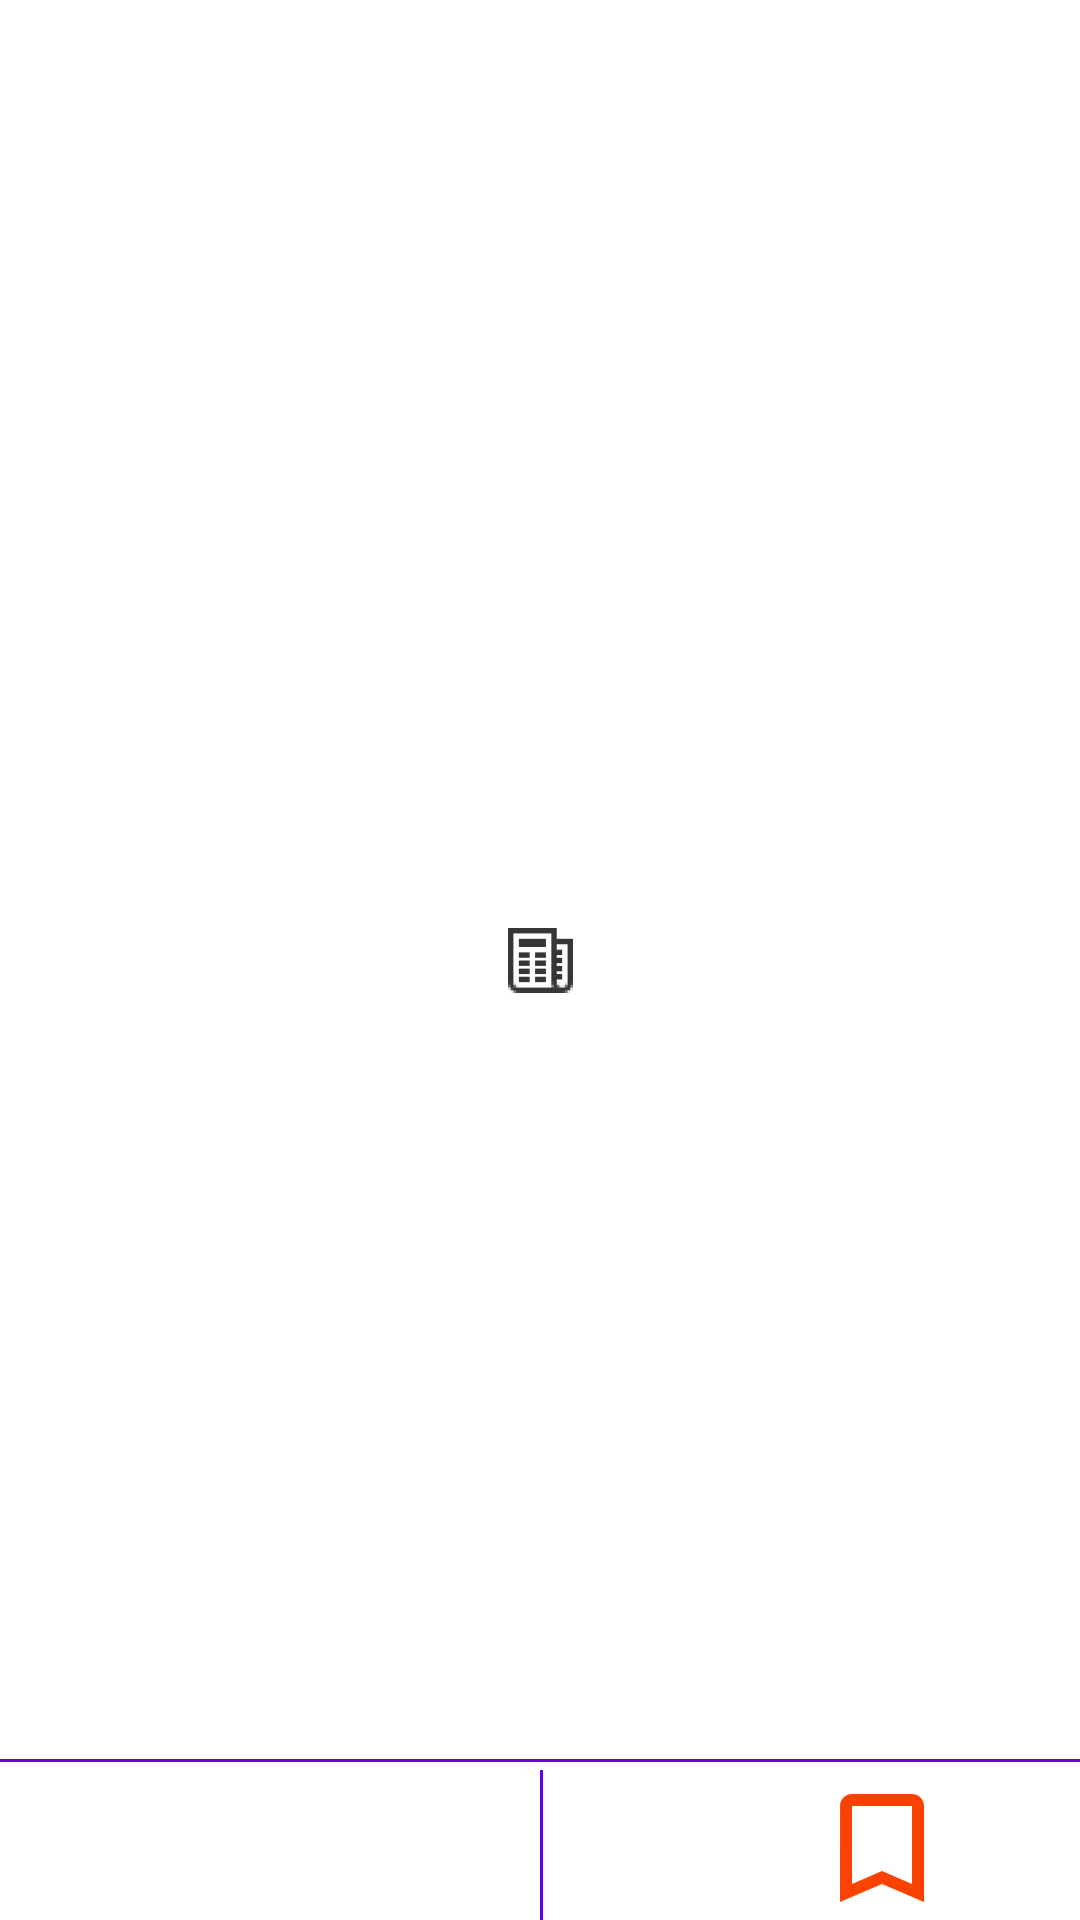

Where to tap for icons on this 1080px x 1920px app screen, as point (x, y):
bookmark border: point (882, 1848)
